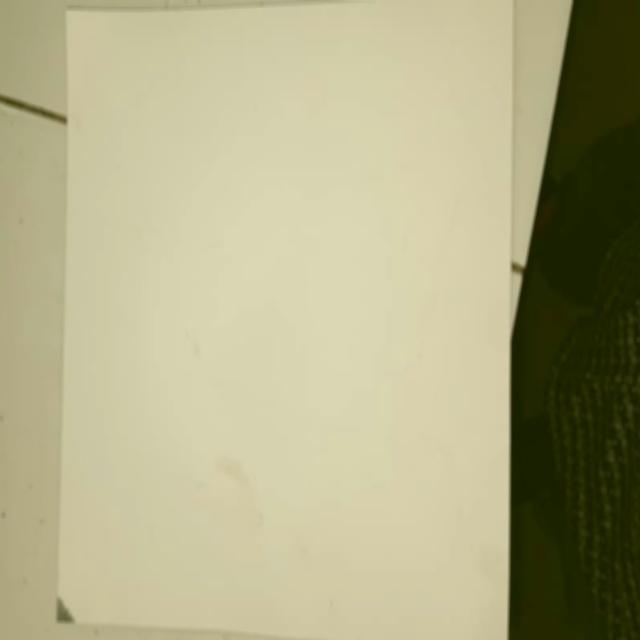TLC Plate: (56, 5, 514, 613)
